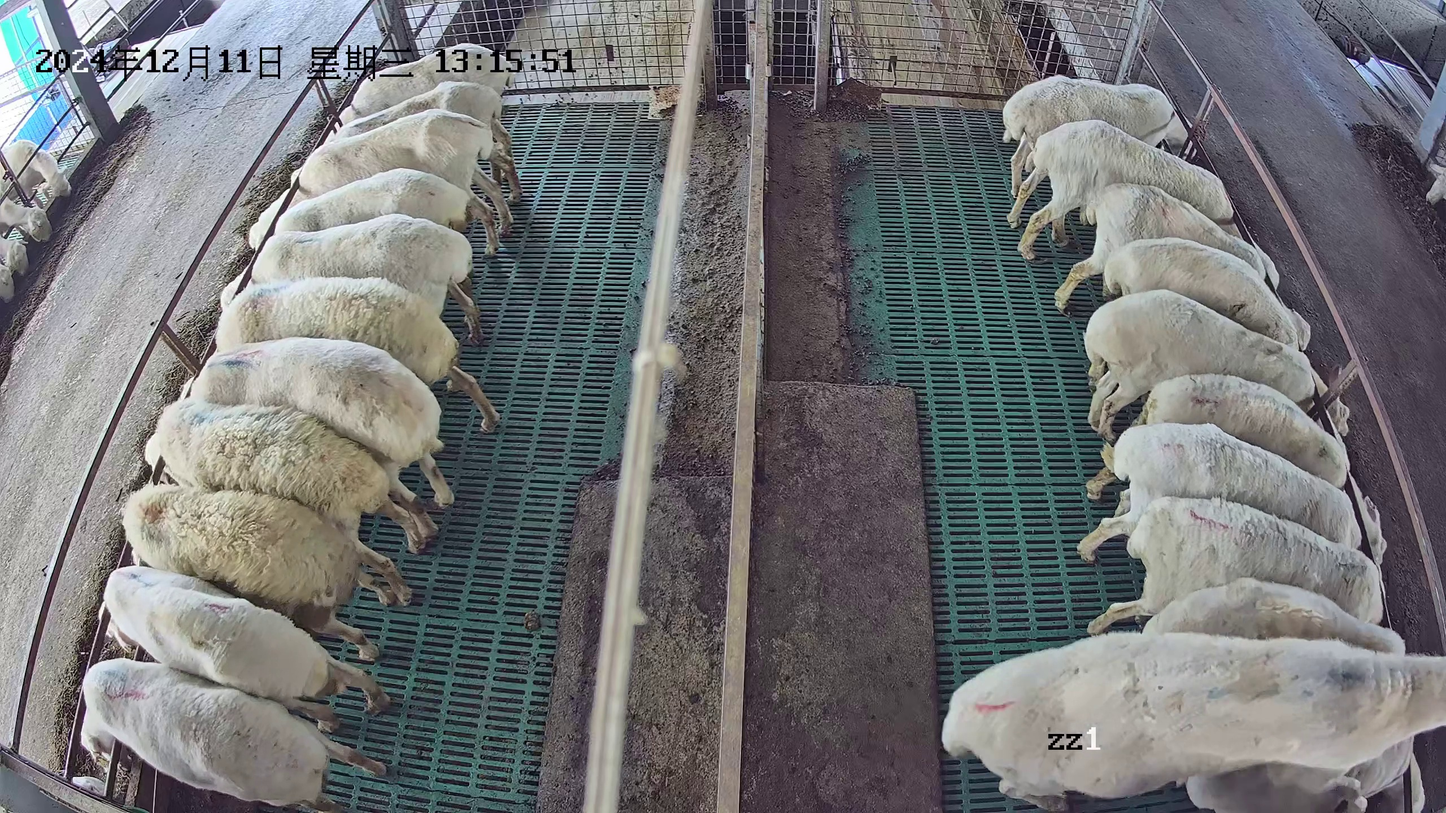Smounting: (940, 629, 1446, 813)
mounted: (1184, 731, 1428, 813)
